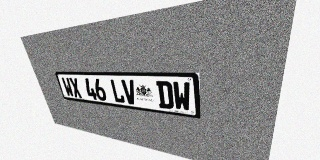4: (83, 78, 98, 100)
6: (92, 78, 107, 101)
D: (156, 81, 174, 109)
L: (109, 79, 125, 103)
V: (121, 79, 138, 105)
W: (172, 81, 191, 112), (61, 77, 75, 97)
X: (69, 78, 83, 98)
